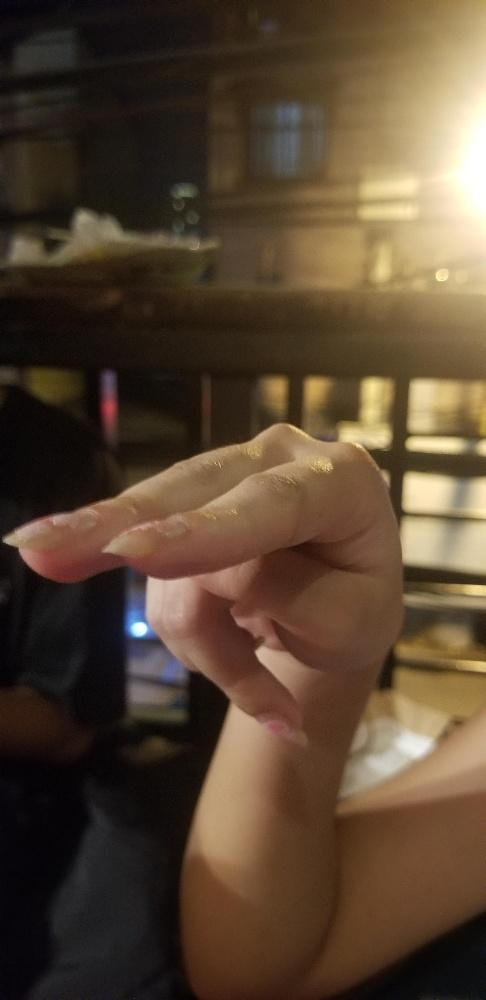n: (2, 417, 409, 753)
